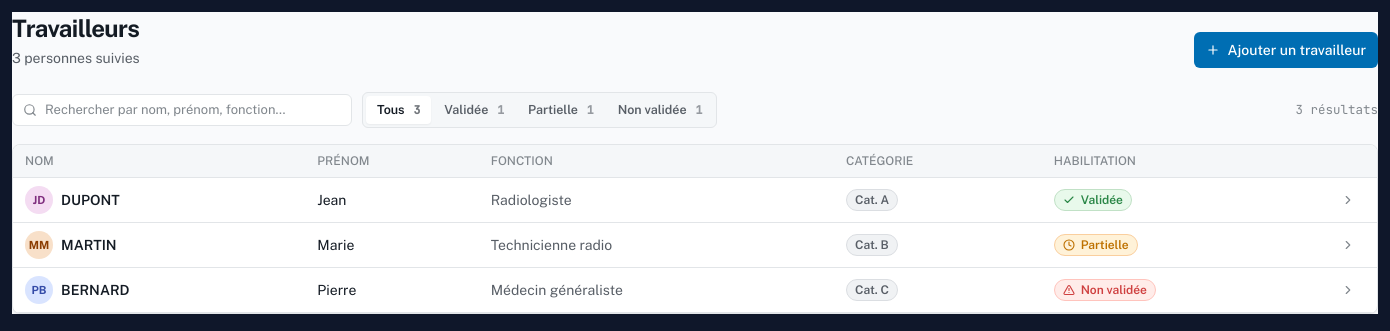
Test: TravailleursList › should display all travailleurs when Tous pill is selected
The image size is (1390, 331).
Expected: the text "Dupont" is shown, [61,190,120,210]
Click the button with test id "filter-pill-validee": (474, 110) [433,96,515,124]
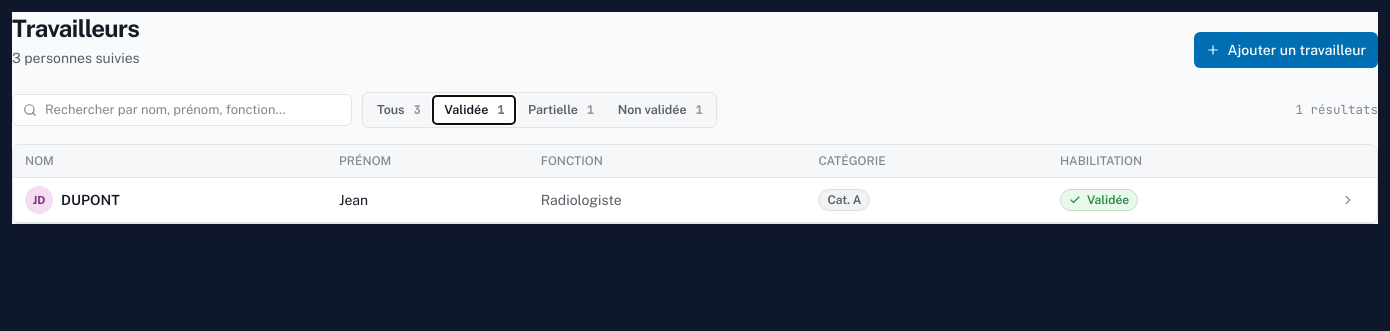
Expected: the text "Dupont" is shown, [61,190,120,210]
Expected: the text "Martin" is gone
Click the button with test id "filter-pill-tous": (399, 110) [366,96,431,124]
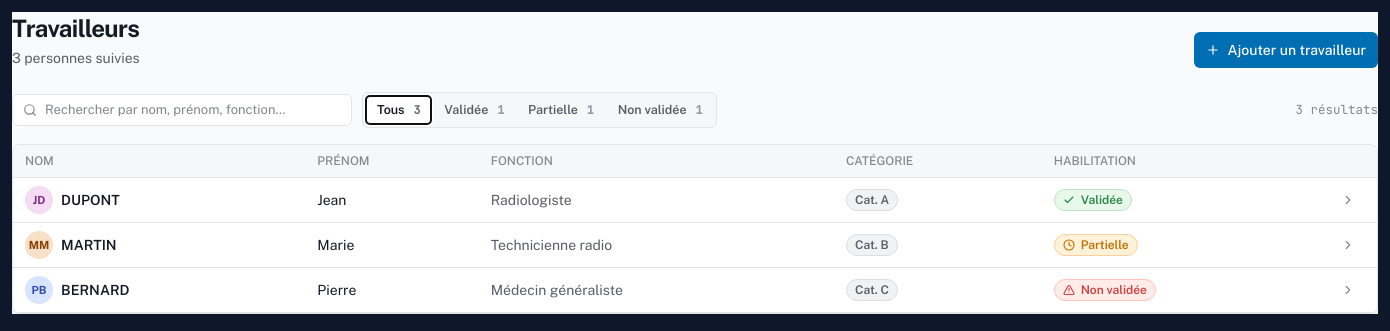
Expected: the text "Dupont" is shown, [61,190,120,210]
Expected: the text "Martin" is shown, [61,235,117,255]
Expected: the text "Bernard" is shown, [61,280,130,300]
